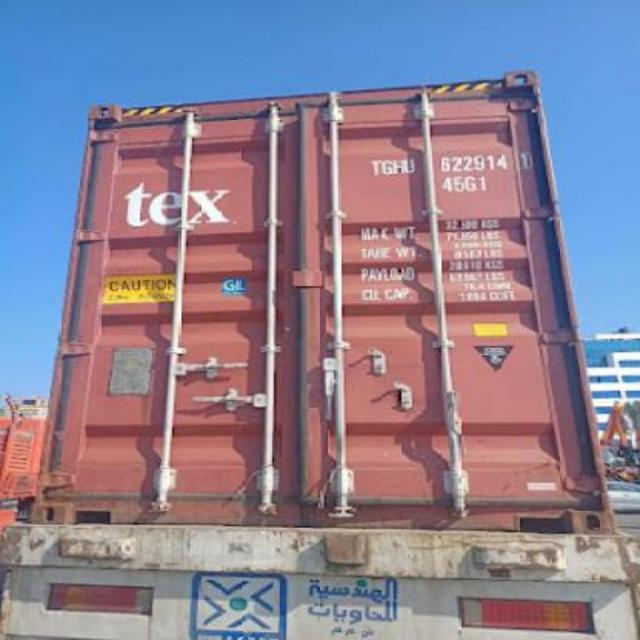1: (514, 146, 536, 170), (484, 147, 496, 171)
2: (461, 148, 474, 176), (448, 150, 460, 174)
4: (498, 147, 510, 176)
6: (440, 147, 450, 176)
9: (472, 148, 486, 176)
G: (380, 156, 392, 174)
H: (391, 152, 404, 178)
T: (368, 156, 382, 180)
U: (402, 154, 418, 176)
